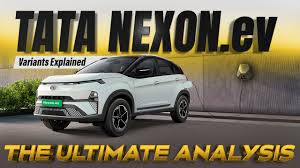Tata Nexon: (32, 55, 192, 137)
